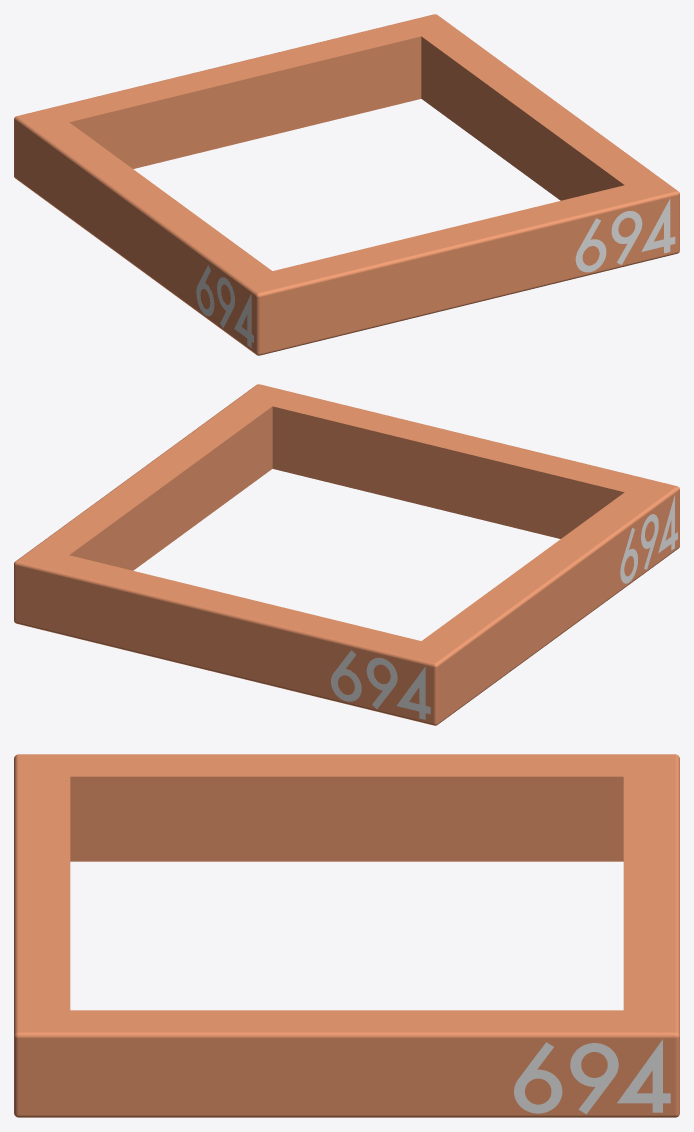
File: stuy new bumpers.fbx
3 renders of one model, top to bottom at view 1: azimuth 30°, elevation 25°; view 2: azimuth 150°, elevation 25°; view 3: azimuth 270°, elevation 25°, orthographic. The views are drawn at different scales.
Parts seen in each view (by area): view 1: Part 1; view 2: Part 1; view 3: Part 1.
Boxes of the visible parts, x1,y1,x2,y2 form: Part 1: (14, 14, 679, 355); Part 1: (14, 384, 679, 725); Part 1: (14, 754, 679, 1117).
Bounding box in the file's own units: 90.19 × 12.7 × 90.19.
